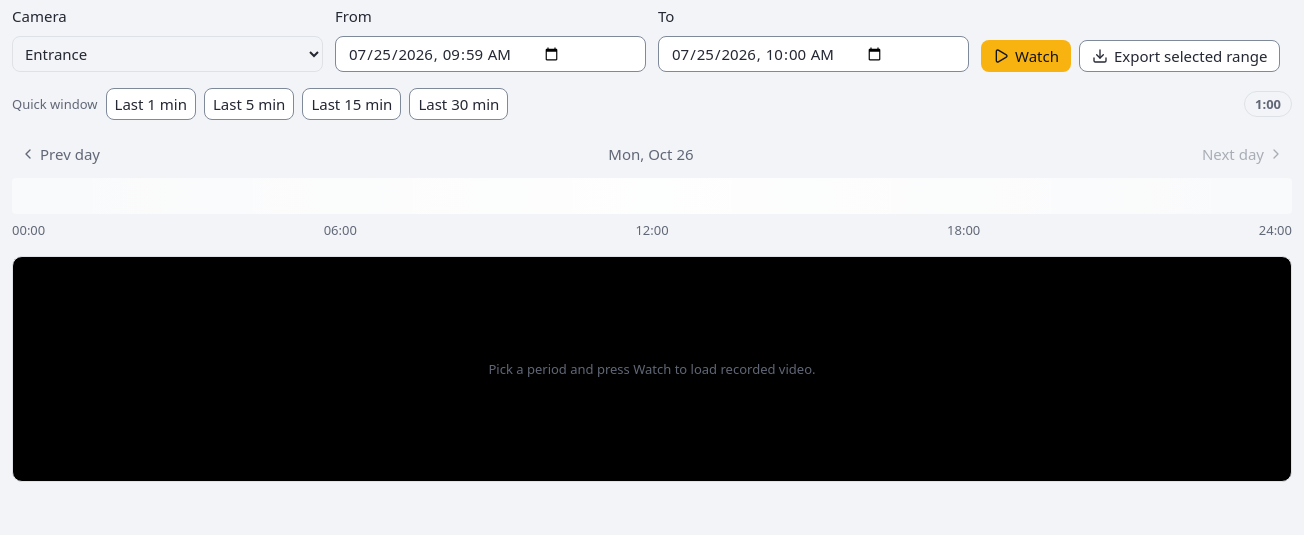
Test: ArchivePlayer › refuses an inverted window instead of requesting it
Replace the text in the field labelled "From" with "2026-07-25T09:00" at (490, 54), box [335,36,646,72]
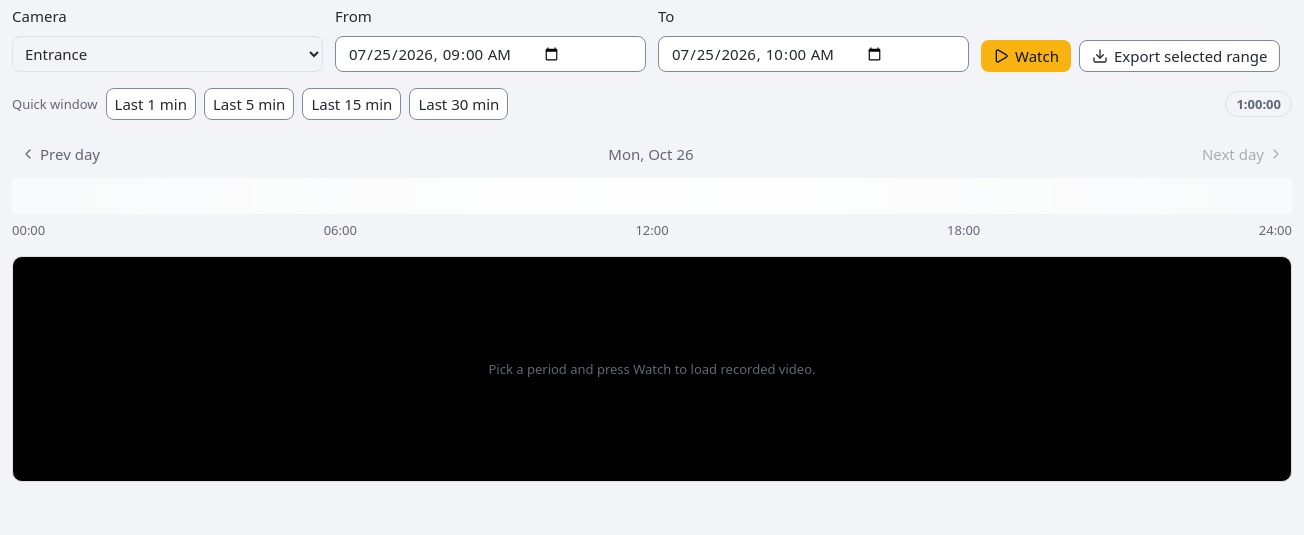
Replace the text in the field labelled "To" with "2026-07-25T08:00" at (814, 54), box [658,36,969,72]
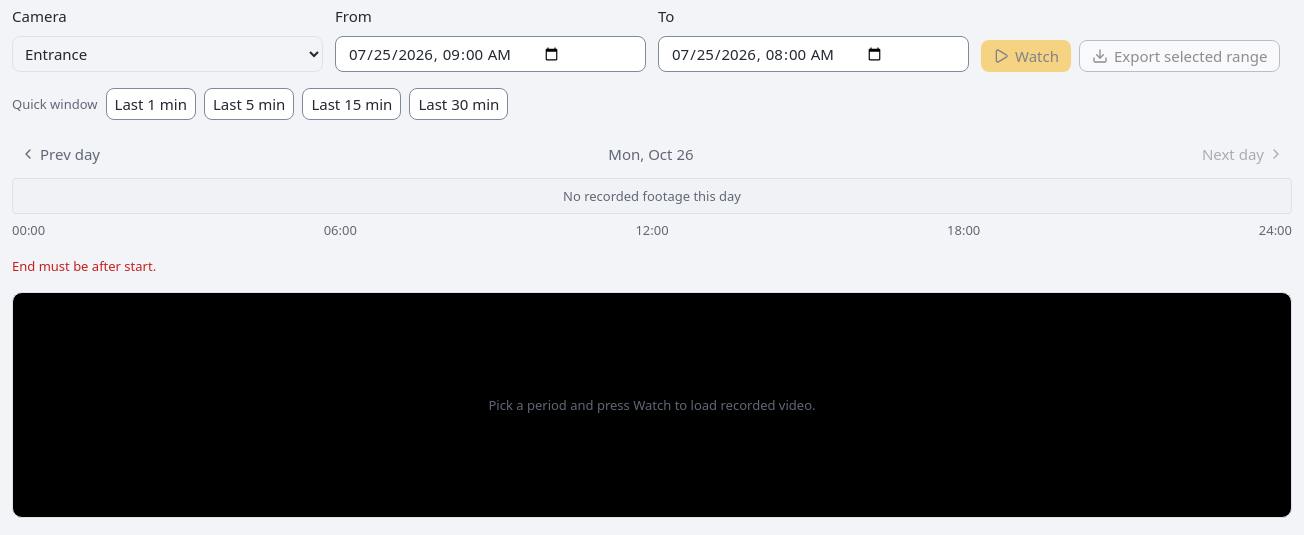
Now the message shows "after start", box [12,257,156,275]
Now the button "Watch" is disabled, box [981,40,1071,72]
